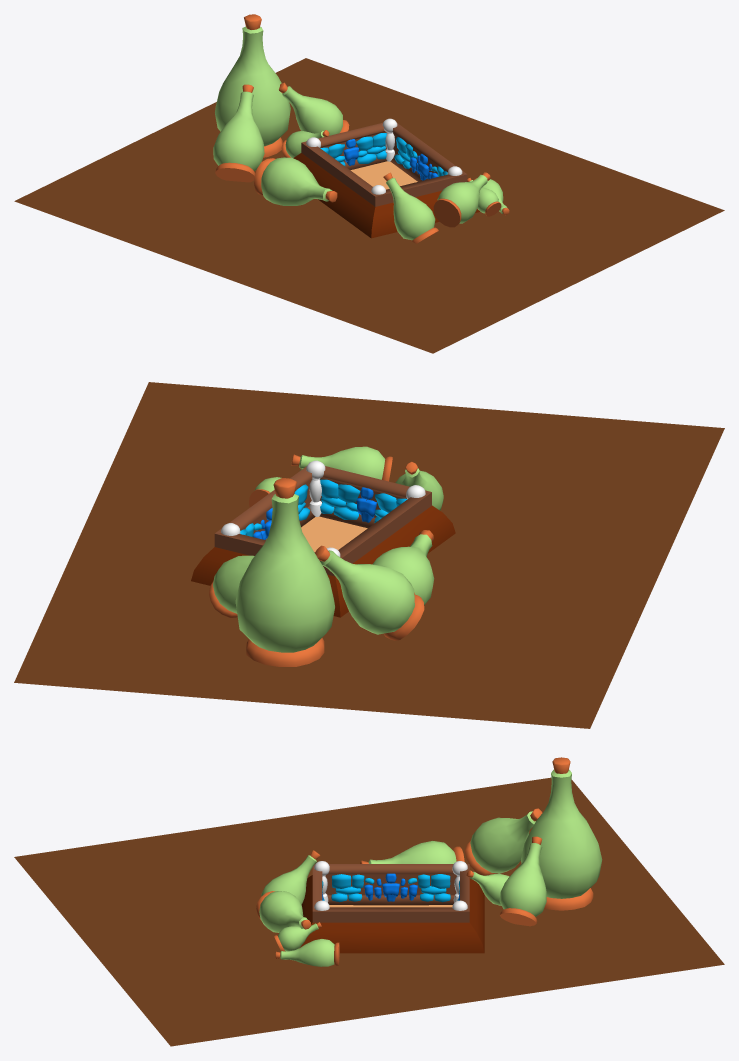
The model's file is ArenaScene.fbx.
The picture shows the model from 3 angles, top to bottom: view 1: azimuth 30°, elevation 25°; view 2: azimuth 150°, elevation 25°; view 3: azimuth 270°, elevation 25°; orthographic projection. The views are drawn at different scales.
Parts seen in each view (by area): view 1: S_Table, S_Potion, S_InnerWalls, S_OuterWalls, S_InnerFloor; view 2: S_Table, S_Potion, S_InnerWalls, S_OuterWalls, S_InnerFloor; view 3: S_Table, S_Potion, S_InnerWalls, S_OuterWalls.
Part boxes in pixels (box(x1,y1,x2,y2)): S_Table: box(14, 58, 724, 353); S_Potion: box(213, 14, 509, 243); S_InnerWalls: box(301, 118, 467, 206); S_OuterWalls: box(293, 153, 480, 238); S_InnerFloor: box(350, 161, 417, 189); S_Table: box(14, 382, 724, 728); S_Potion: box(209, 446, 443, 666); S_InnerWalls: box(214, 460, 431, 576); S_OuterWalls: box(191, 505, 455, 617); S_InnerFloor: box(301, 516, 367, 551); S_Table: box(14, 777, 724, 1046); S_Potion: box(256, 757, 602, 966); S_InnerWalls: box(312, 861, 469, 922); S_OuterWalls: box(299, 875, 484, 953).
Size of the model in its own units: 2043 by 533 by 2262.
